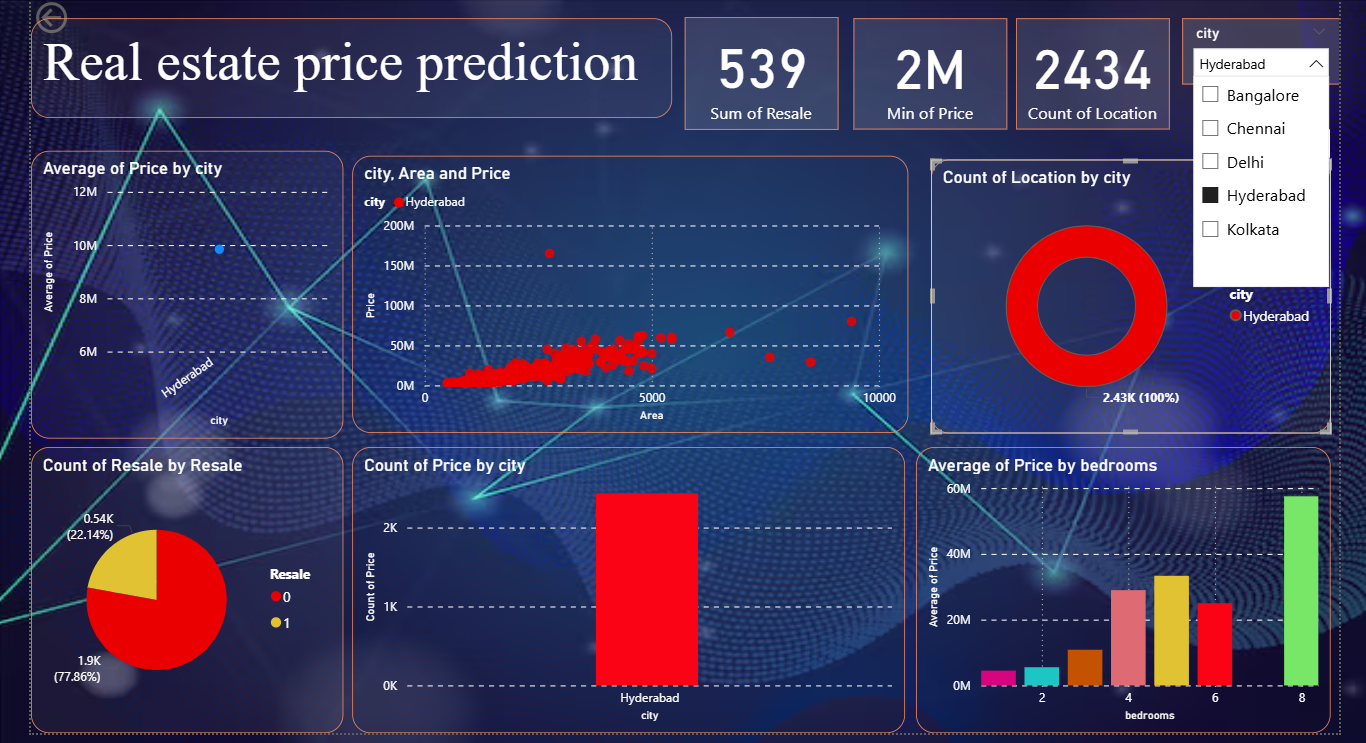

The page's visual inventory and layout, read from the dashboard file:
{"tool":"powerbi","page":{"name":"Page 1","canvas":[1280,720],"ordinal":0},"visuals":[{"type":"actionButton","box":[0,0,100.3,40.4],"z":0},{"type":"columnChart","fields":{"Category":["merged_real_estate_data(1).city"],"Y":["CountNonNull(merged_real_estate_data(1).Price)"]},"box":[314.3,440.2,540.5,280],"z":1000},{"type":"clusteredColumnChart","fields":{"Category":["merged_real_estate_data(1). bedrooms"],"Y":["Avg(merged_real_estate_data(1).Price)"]},"box":[865.8,440.2,406,280],"z":2000},{"type":"scatterChart","fields":{"X":["merged_real_estate_data(1).Area"],"Y":["merged_real_estate_data(1).Price"],"Series":["merged_real_estate_data(1).city"]},"box":[314.3,155.3,544.2,271.5],"z":3000},{"type":"donutChart","fields":{"Category":["merged_real_estate_data(1).city"],"Y":["CountNonNull(merged_real_estate_data(1).Location)"]},"box":[880.4,159,391.3,267.8],"z":4000},{"type":"lineChart","fields":{"Y":["Avg(merged_real_estate_data(1).Price)"],"Category":["merged_real_estate_data(1).city"]},"box":[0,150.4,305.7,281.3],"z":5000},{"type":"pieChart","fields":{"Category":["merged_real_estate_data(1).Resale"],"Y":["CountNonNull(merged_real_estate_data(1).Resale)"]},"box":[0,440.2,305.7,280],"z":7000},{"type":"card","fields":{"Values":["Min(merged_real_estate_data(1).Price)"]},"box":[804.6,20.8,150.4,108.8],"z":8000},{"type":"card","fields":{"Values":["CountNonNull(merged_real_estate_data(1).Location)"]},"box":[963.6,20.8,150.4,108.8],"z":9000},{"type":"card","fields":{"Values":["Sum(merged_real_estate_data(1).Resale)"]},"box":[639.5,19.6,150.4,110.1],"z":10000},{"type":"slicer","fields":{"Values":["merged_real_estate_data(1).city"]},"box":[1126.2,20.8,154.1,64.8],"z":11000},{"type":"textbox","box":[0,20.8,627.3,97.8],"z":12000}]}

Visuals, with their boxes on the page's 1280x720 design canvas (x1, y1, x2, y2). These are canvas units, not pixel positions in the 1366x743 screenshot, which may show the page scaled, cropped or inside an application window:
actionButton: bbox=(0, 0, 100, 40)
columnChart - merged_real_estate_data(1).city x CountNonNull(merged_real_estate_data(1).Price): bbox=(314, 440, 855, 720)
clusteredColumnChart - merged_real_estate_data(1). bedrooms x Avg(merged_real_estate_data(1).Price): bbox=(866, 440, 1272, 720)
scatterChart - merged_real_estate_data(1).Area x merged_real_estate_data(1).Price: bbox=(314, 155, 858, 427)
donutChart - merged_real_estate_data(1).city x CountNonNull(merged_real_estate_data(1).Location): bbox=(880, 159, 1272, 427)
lineChart - Avg(merged_real_estate_data(1).Price) x merged_real_estate_data(1).city: bbox=(0, 150, 306, 432)
pieChart - merged_real_estate_data(1).Resale x CountNonNull(merged_real_estate_data(1).Resale): bbox=(0, 440, 306, 720)
card - Min(merged_real_estate_data(1).Price): bbox=(805, 21, 955, 130)
card - CountNonNull(merged_real_estate_data(1).Location): bbox=(964, 21, 1114, 130)
card - Sum(merged_real_estate_data(1).Resale): bbox=(640, 20, 790, 130)
slicer - merged_real_estate_data(1).city: bbox=(1126, 21, 1280, 86)
textbox: bbox=(0, 21, 627, 119)
